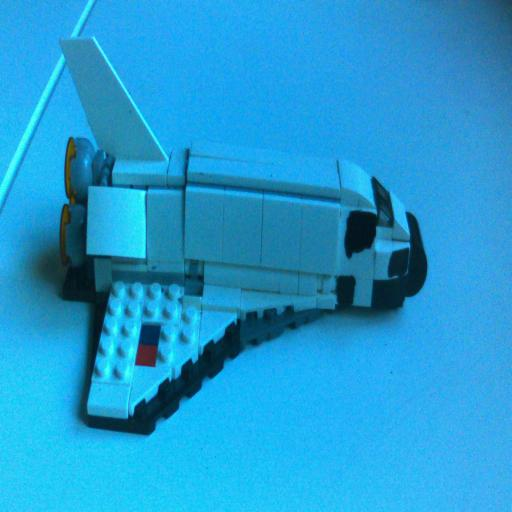defect_colour: (345, 212, 377, 260), (336, 273, 359, 311), (387, 252, 411, 280)
